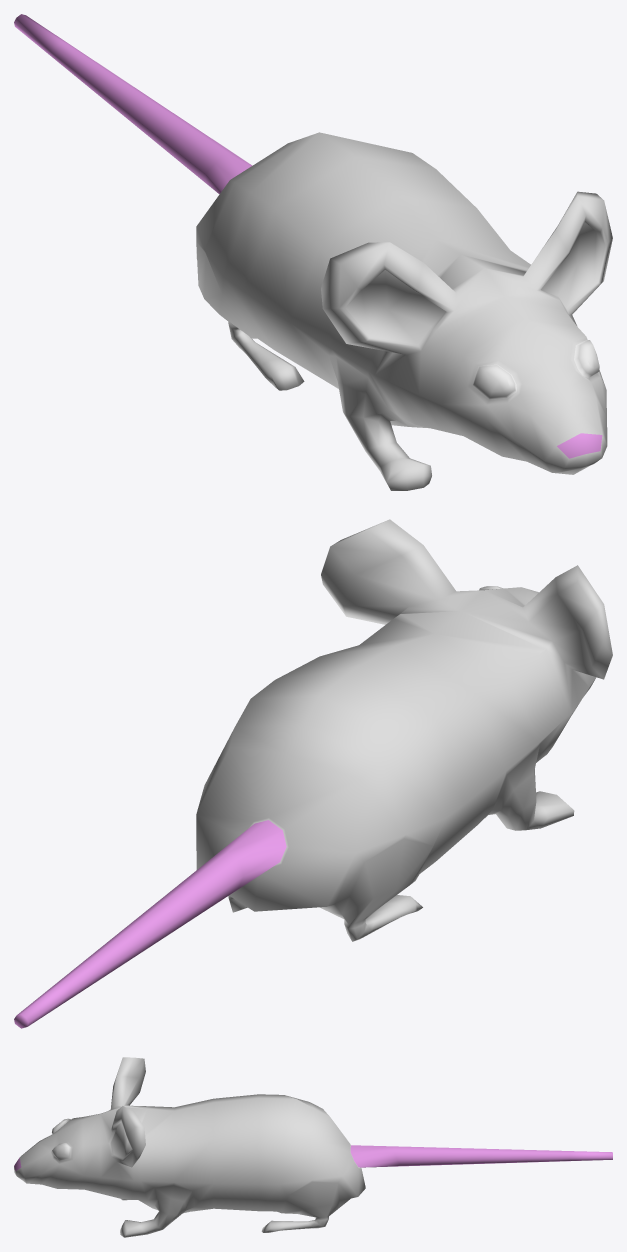
Rendered from Mouse.fbx.
The picture shows the model from 3 angles, top to bottom: view 1: azimuth 30°, elevation 25°; view 2: azimuth 150°, elevation 25°; view 3: azimuth 270°, elevation 25°; orthographic projection. The views are drawn at different scales.
Visible parts, largest first — view 1: Mouse; view 2: Mouse; view 3: Mouse.
Part boxes in pixels (<box>): Mouse: <box>14,14,612,490</box>; Mouse: <box>14,519,612,1028</box>; Mouse: <box>14,1057,612,1237</box>.
Size of the model in its own units: 10.78 by 8.94 by 36.38.
